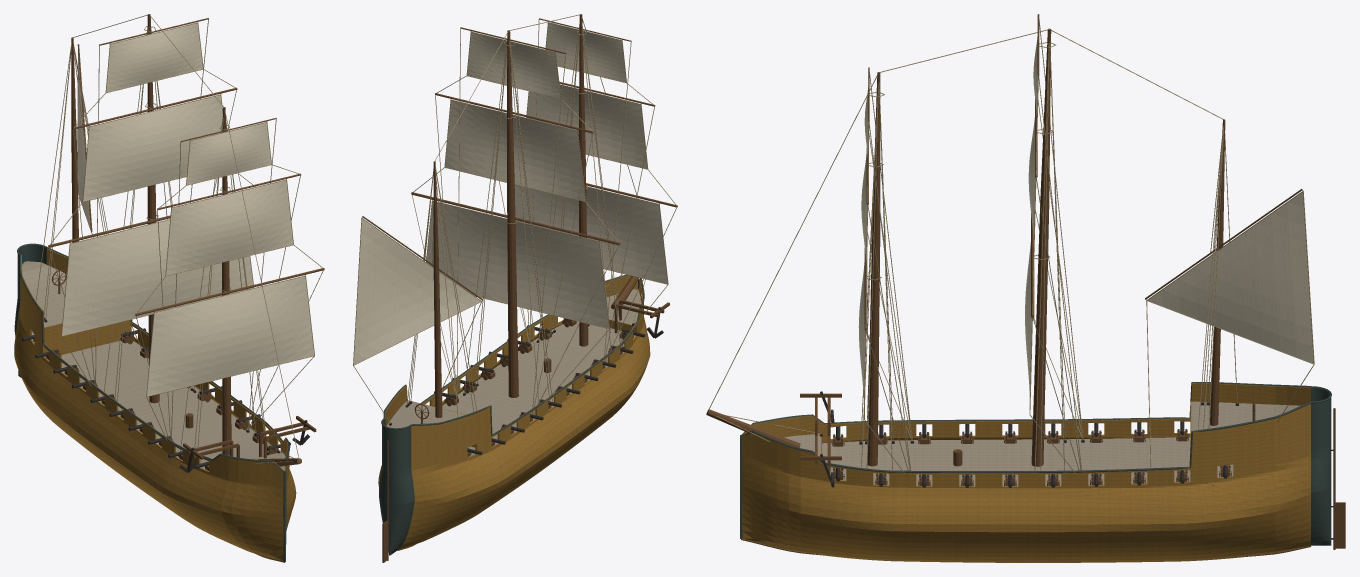
The picture shows the model from 3 angles, left to right: view 1: azimuth 30°, elevation 25°; view 2: azimuth 150°, elevation 25°; view 3: azimuth 270°, elevation 25°; orthographic projection. The views are drawn at different scales.
Parts seen in each view (by area): view 1: lod1_hull_shell_starboard, lod1_fore_square_00, lod1_main_square_00, lod1_main_square_01, lod1_main_deck, lod1_fore_square_01, lod1_main_square_02, lod1_fore_square_02, lod1_hull_shell_port, lod1_castle_deck_0, lod1_castle_bulkhead_0_1, lod1_mizzen (+9 smaller); view 2: lod1_hull_shell_starboard, lod1_main_square_00, lod1_mizzen_lateen_00, lod1_main_square_01, lod1_fore_square_00, lod1_main_deck, lod1_fore_square_01, lod1_main_square_02, lod1_stern_closure, lod1_main, lod1_fore_square_02, lod1_hull_shell_port (+16 smaller); view 3: lod1_hull_shell_port, lod1_mizzen_lateen_00, lod1_main_deck, lod1_hull_shell_starboard, lod1_main, lod1_stern_closure, lod1_fore, lod1_castle_deck_0, lod1_gunwale_port, lod1_mizzen, lod1_gunwale_starboard.
Part boxes in pixels (left/top/right/bottom): lod1_hull_shell_starboard: left=14, top=255, right=283, bottom=560; lod1_fore_square_00: left=147, top=276, right=314, bottom=396; lod1_main_square_00: left=62, top=220, right=253, bottom=335; lod1_main_square_01: left=83, top=95, right=222, bottom=201; lod1_main_deck: left=32, top=331, right=270, bottom=470; lod1_fore_square_01: left=166, top=180, right=293, bottom=275; lod1_main_square_02: left=106, top=23, right=202, bottom=92; lod1_fore_square_02: left=186, top=122, right=271, bottom=184; lod1_hull_shell_port: left=46, top=248, right=296, bottom=530; lod1_castle_deck_0: left=22, top=261, right=66, bottom=327; lod1_castle_bulkhead_0_1: left=44, top=320, right=129, bottom=357; lod1_mizzen: left=71, top=37, right=78, bottom=242; lod1_hull_shell_starboard: left=399, top=278, right=650, bottom=549; lod1_main_square_00: left=426, top=201, right=609, bottom=328; lod1_mizzen_lateen_00: left=353, top=219, right=480, bottom=364; lod1_main_square_01: left=445, top=100, right=585, bottom=201; lod1_fore_square_00: left=514, top=185, right=667, bottom=283; lod1_main_deck: left=389, top=321, right=635, bottom=474; lod1_fore_square_01: left=527, top=85, right=647, bottom=168; lod1_main_square_02: left=467, top=32, right=560, bottom=98; lod1_stern_closure: left=379, top=419, right=414, bottom=555; lod1_main: left=507, top=30, right=518, bottom=397; lod1_fore_square_02: left=546, top=23, right=626, bottom=82; lod1_hull_shell_port: left=378, top=275, right=637, bottom=488; lod1_hull_shell_port: left=741, top=403, right=1310, bottom=562; lod1_mizzen_lateen_00: left=1148, top=192, right=1313, bottom=363; lod1_main_deck: left=822, top=437, right=1233, bottom=486; lod1_hull_shell_starboard: left=741, top=383, right=1310, bottom=443; lod1_main: left=1031, top=28, right=1051, bottom=466; lod1_stern_closure: left=1311, top=387, right=1331, bottom=545; lod1_fore: left=867, top=72, right=880, bottom=466; lod1_castle_deck_0: left=1191, top=401, right=1300, bottom=430; lod1_gunwale_port: left=741, top=401, right=1311, bottom=472; lod1_mizzen: left=1210, top=119, right=1225, bottom=425; lod1_gunwale_starboard: left=741, top=382, right=1310, bottom=434.
Size of the model in its own units: 17.74 by 36.74 by 39.96.
7 materials, 7 textured.
